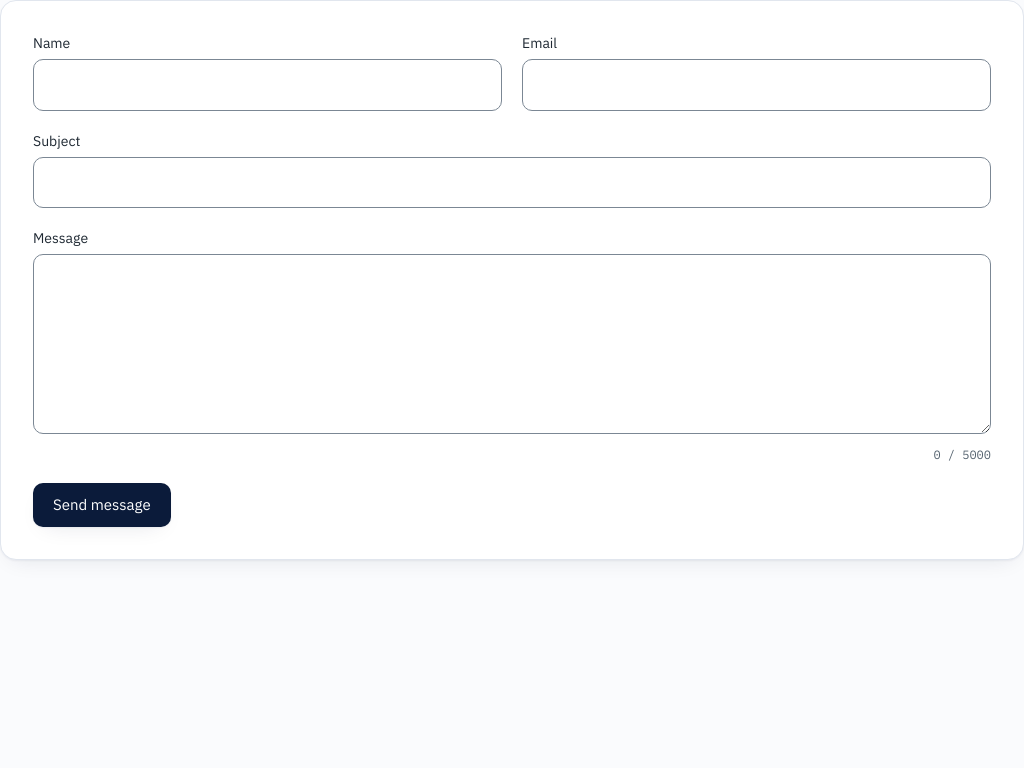
Test: ContactForm › blocks an empty submit, explains each problem and focuses the first invalid field
What coordinates should you click on to do the following:
click the button "Send message"
I would click on:
 (102, 505)
Its box is [33, 483, 171, 527].
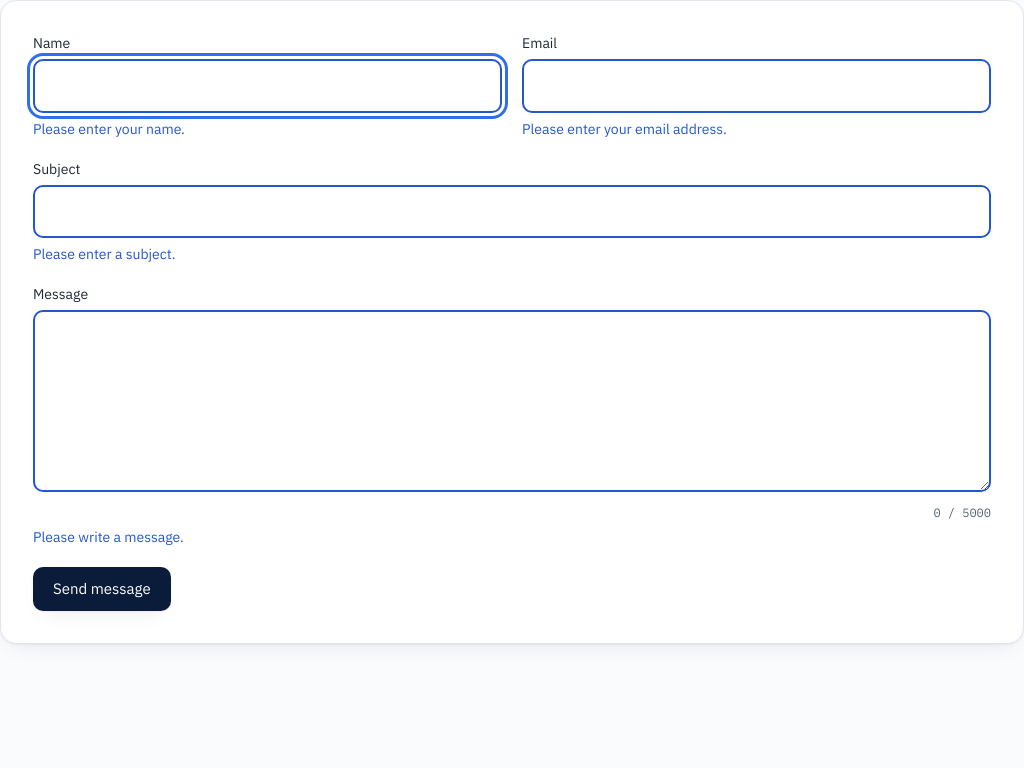
Now the text "Please enter your name." is shown, box [33, 120, 185, 138]
Now the text "Please enter your email address." is shown, box [522, 120, 727, 138]
